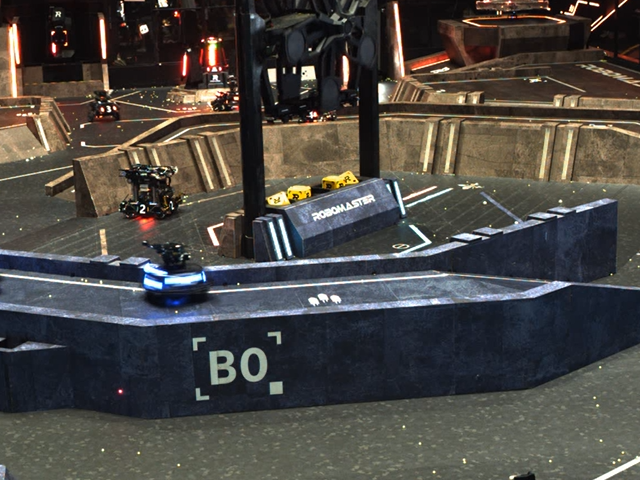rm: (140, 240, 208, 304), (120, 164, 182, 221), (89, 89, 122, 122), (210, 89, 239, 112)
